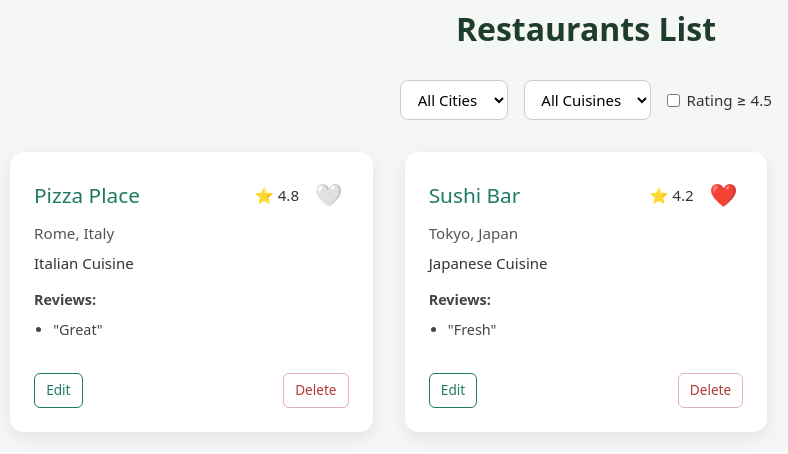
Scenario: RestaurantList.vue › filters restaurants by rating >= 4.5
What coordinates should you click on to do the following:
click the checkbox labelled "Rating ≥ 4.5"
I would click on:
 (674, 100)
Its box is [667,94,680,107].
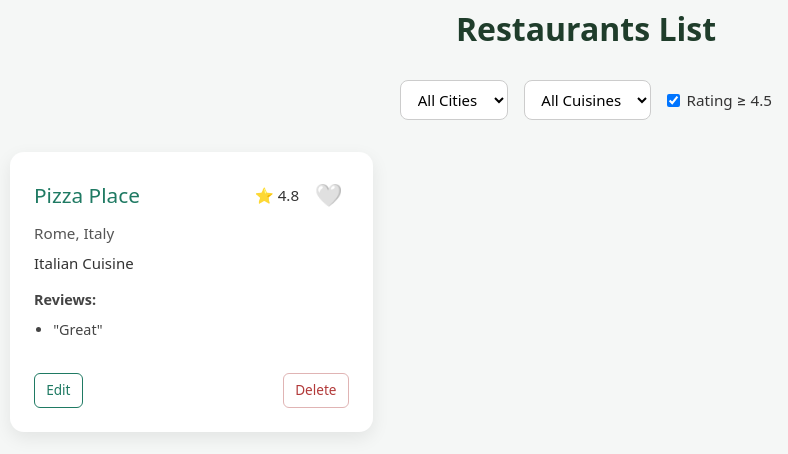
Expected: the text "Pizza Place" is shown, [34,183,140,208]
Result: the text "Sushi Bar" is gone
